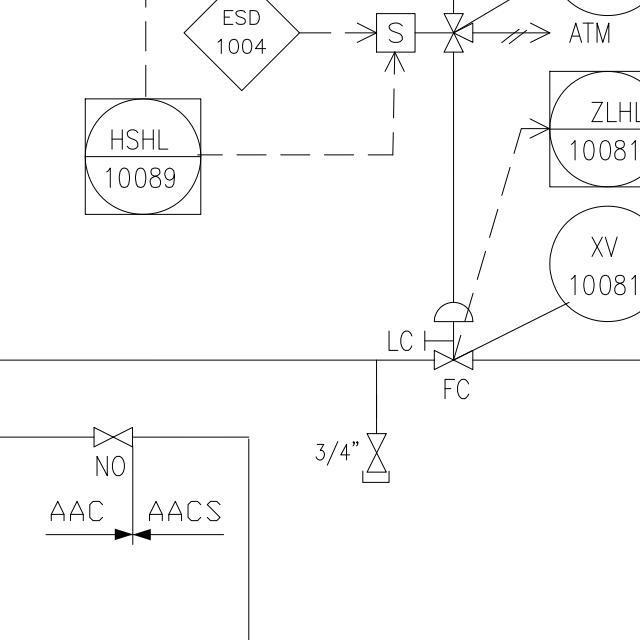3W: (439, 6, 480, 62)
EC: (358, 391, 395, 486)
FC: (428, 292, 478, 375)
GV: (87, 423, 137, 449), (366, 427, 387, 477)
SV: (371, 9, 464, 63)
